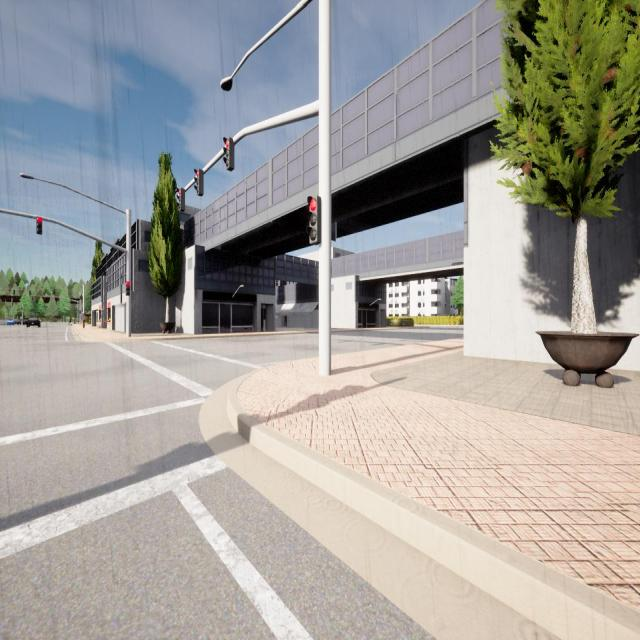Pedestrian: (82, 313, 86, 329), (68, 315, 72, 326)
Vehicle: (27, 317, 40, 328), (7, 318, 14, 326), (15, 318, 21, 326), (22, 318, 28, 325)
traffic_light: (307, 196, 321, 245), (223, 137, 235, 171), (194, 168, 203, 196), (177, 188, 185, 212), (36, 217, 42, 234), (126, 281, 130, 296), (13, 289, 15, 295), (29, 290, 31, 296), (58, 297, 60, 301), (44, 297, 46, 300), (81, 294, 82, 298), (32, 296, 33, 300), (80, 296, 81, 299)
